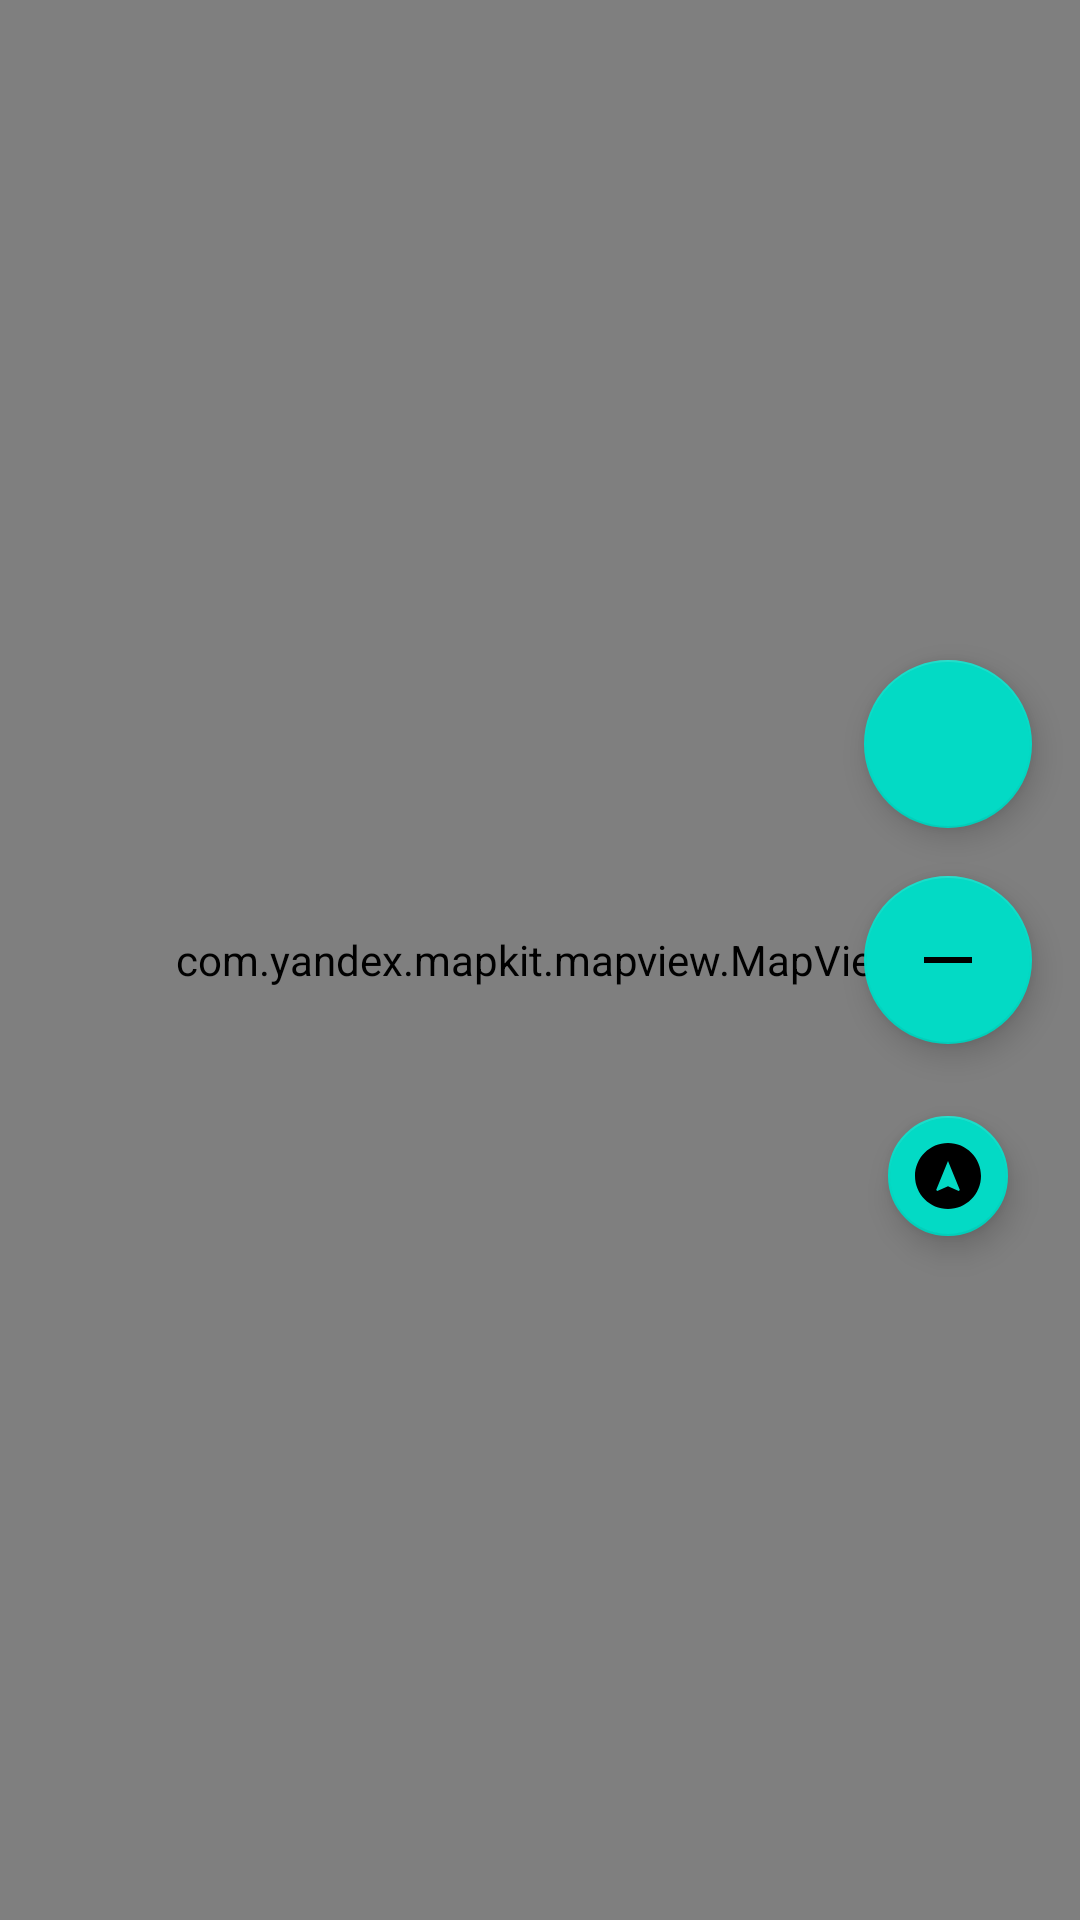

Icon click points for this 1080×1920 phone screenshot, format (x,y):
minus: (948,960)
navigation: (948,1176)
